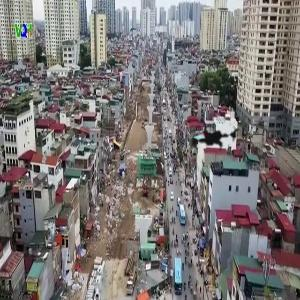drone: (177, 95, 255, 173)
